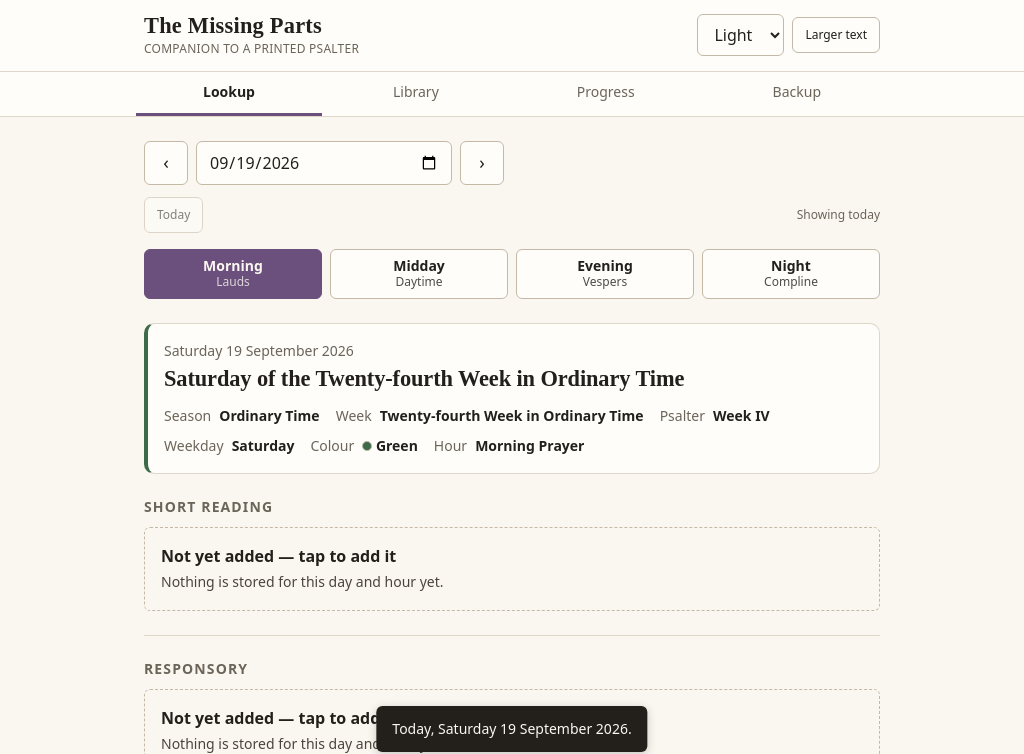
it: adding and overriding sections through the interface › saves a psalter reading and shows it again four weeks later
Type "2026-01-12" into the date field named "Date" at (324, 163), box [196,141,452,185]
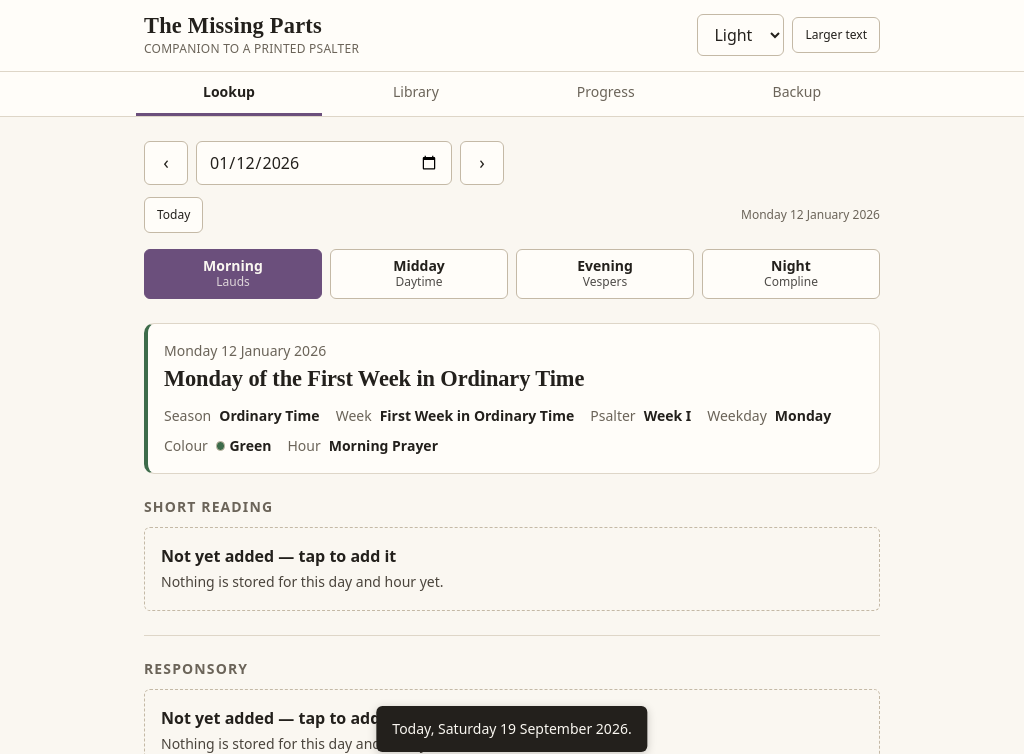
Click the button with aria-label "Add the " at (279, 556), box [144,527,880,611]
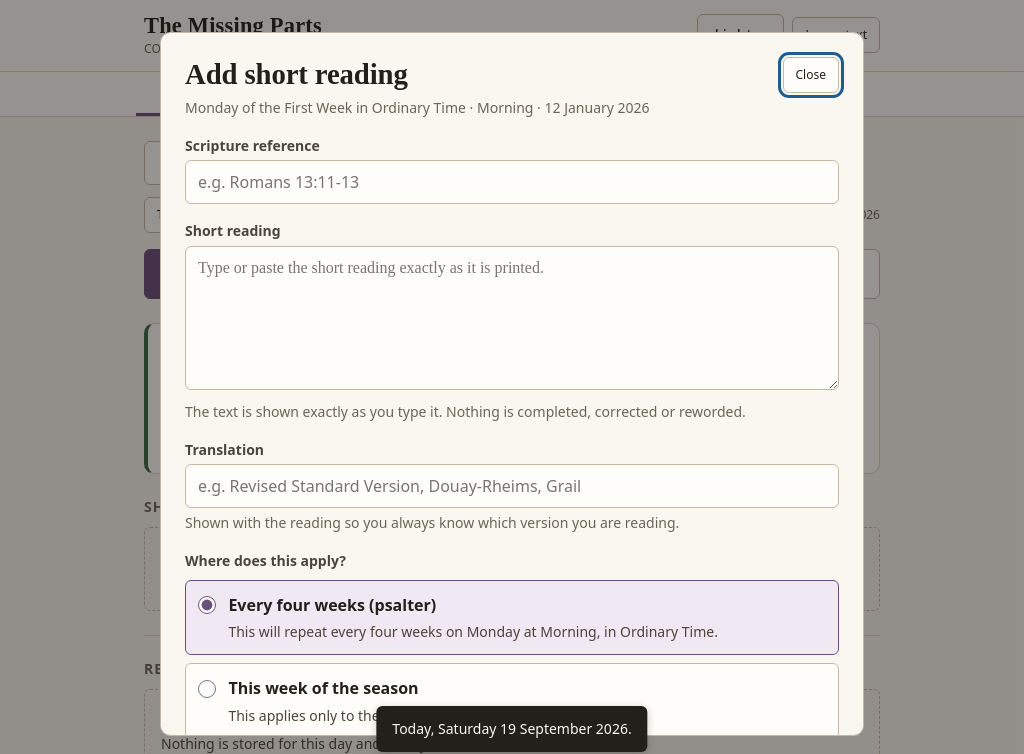
Type "Psalter reading text." into the text box labelled "Short reading" at (512, 318), box [185,246,839,390]
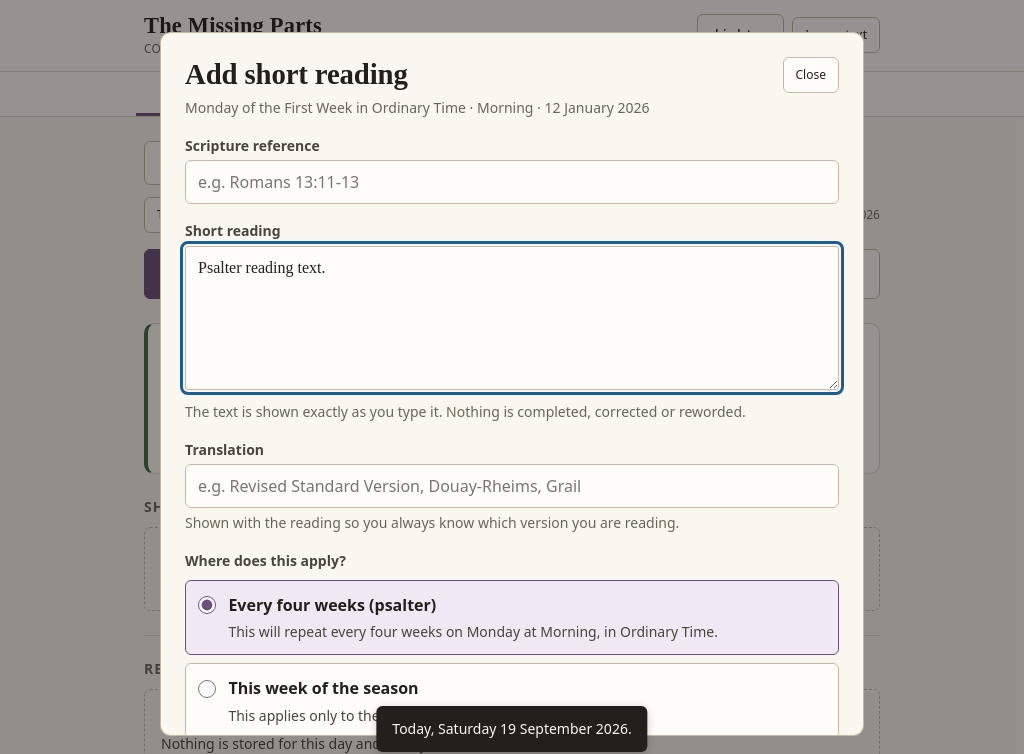
Type "Romans 13:11" into the field labelled "Scripture reference" at (512, 182), box [185,160,839,204]
(page scrolled)
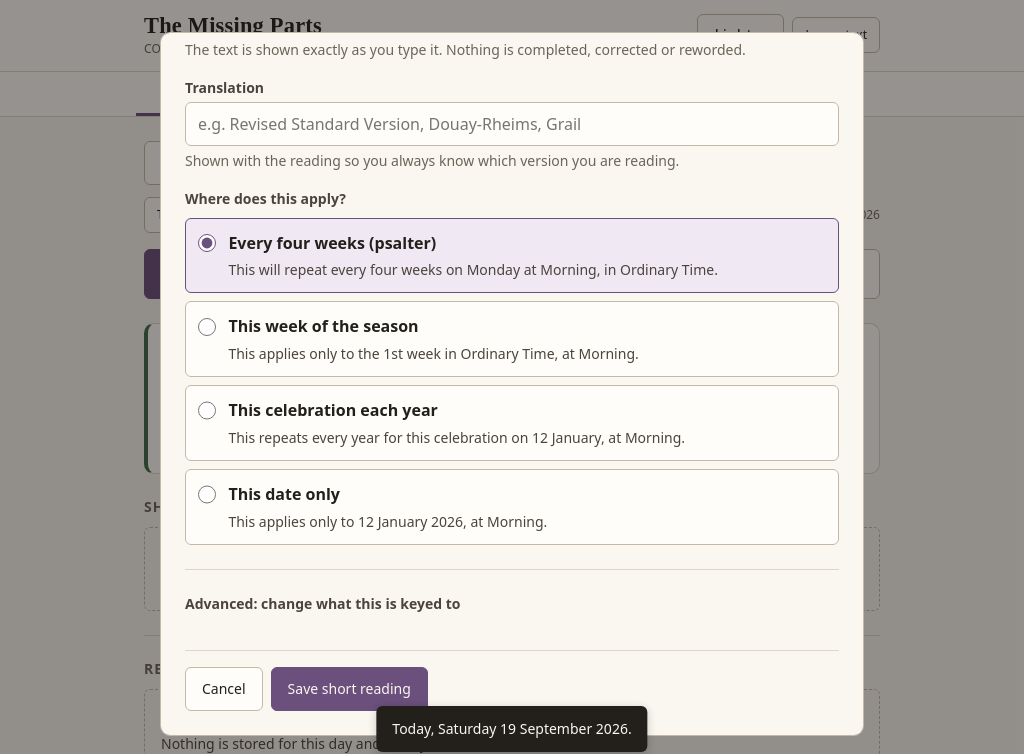
Click the button "Save short reading" at (349, 689), box [271,667,428,711]
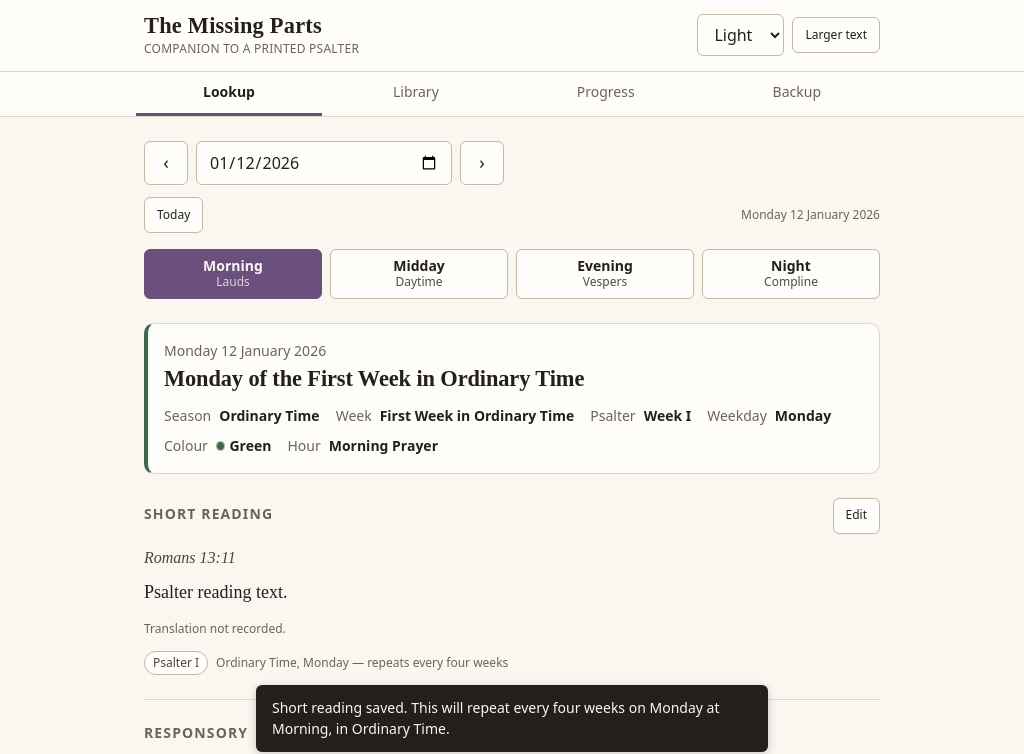
Now the text "Psalter reading text." is shown, box [144,582,288,602]
Now the text "Psalter I" is shown, box [144,651,208,675]
Now the text "Ordinary Time, Monday — repeats every four weeks" is shown, box [216,654,508,672]
Type "2026-02-09" into the date field named "Date" at (324, 163), box [196,141,452,185]
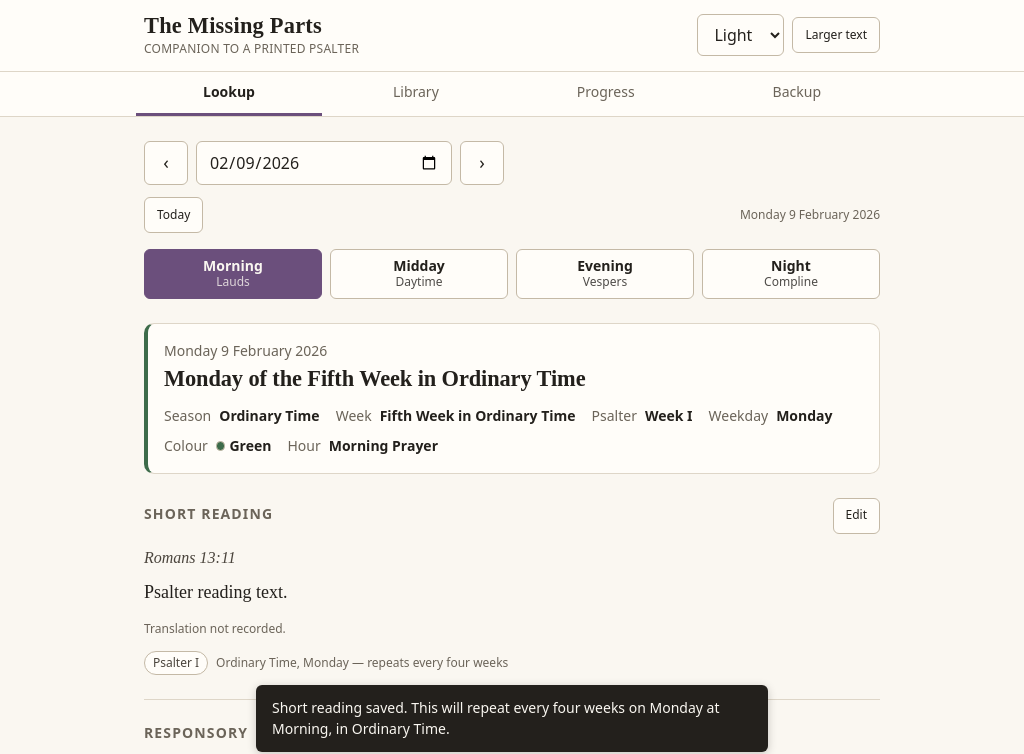
Now the text "Psalter reading text." is shown, box [144,582,288,602]
Now the heading "Monday of the Fifth Week in Ordinary Time" is shown, box [164,366,586,391]
